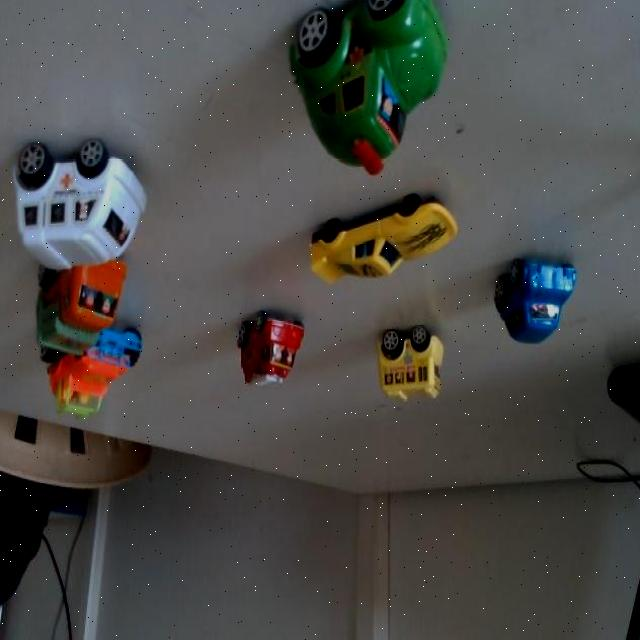car: (19, 112, 166, 294), (304, 0, 452, 165), (321, 179, 451, 298), (67, 321, 149, 425), (368, 310, 452, 408), (232, 294, 306, 401), (54, 248, 118, 362), (506, 252, 578, 346)
